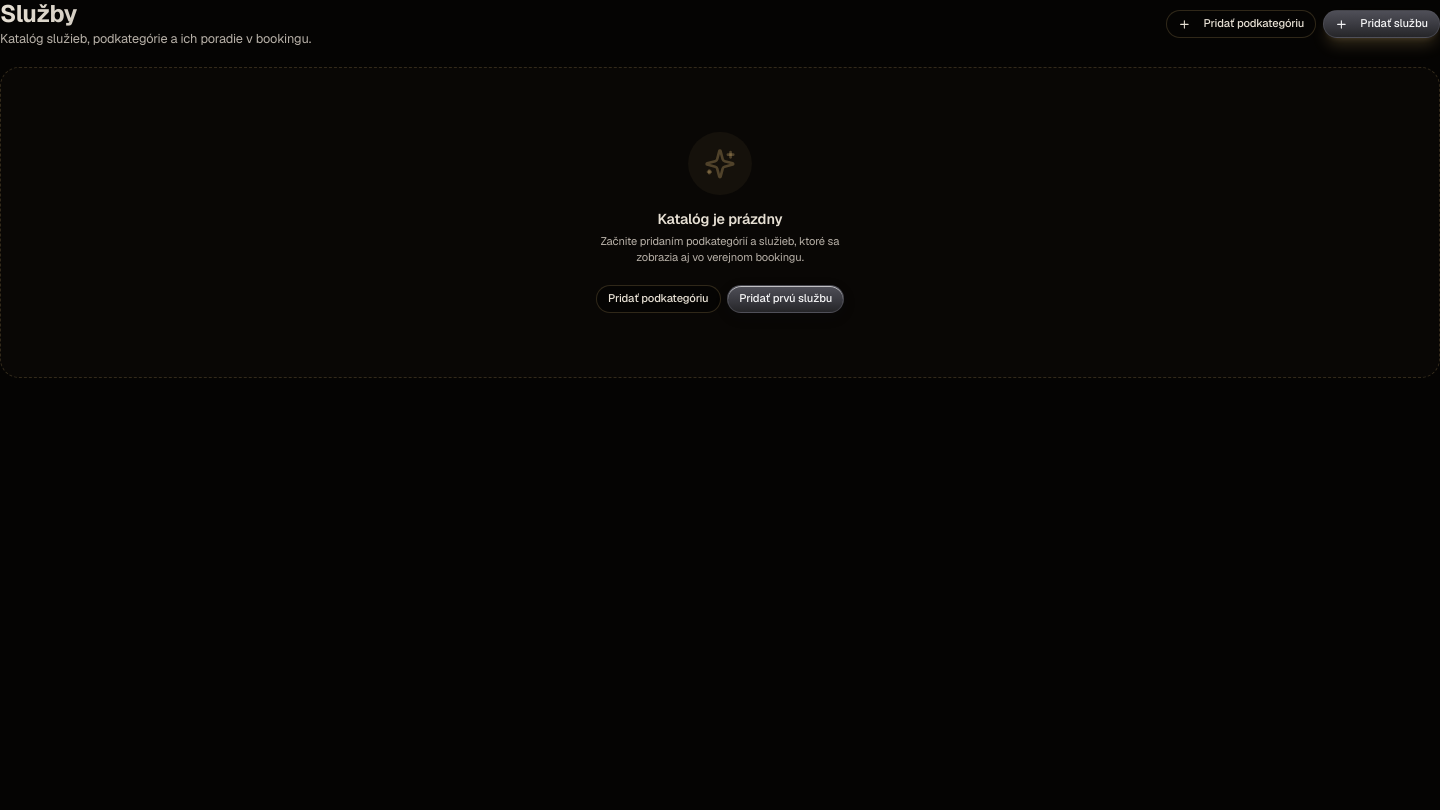
Test: ServicesPage › opens create dialog from empty state CTA
Expected: the heading "Katalóg je prázdny" is shown, [657, 210, 782, 228]
Click the button "Pridať prvú službu" at (786,299), box [727, 285, 844, 313]
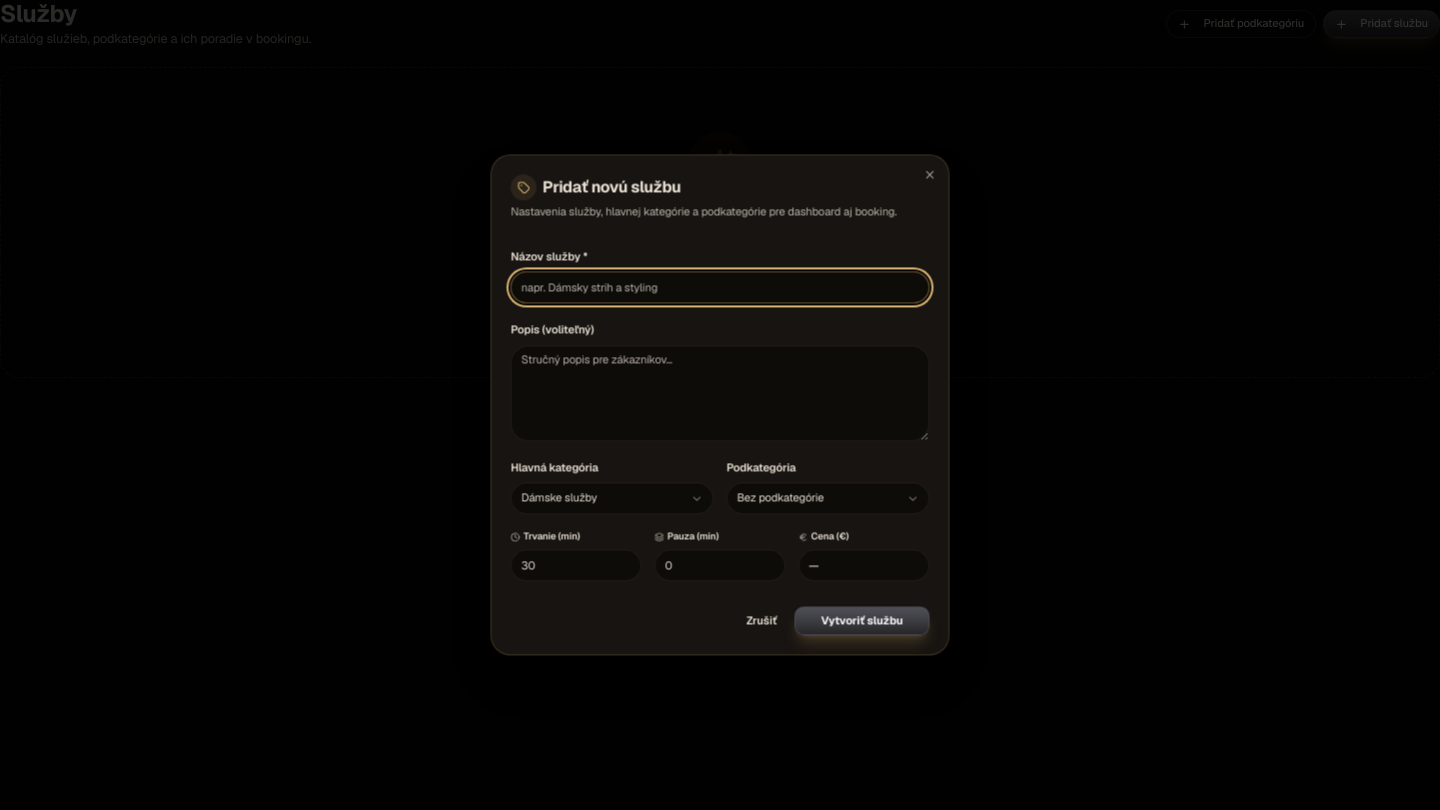
Result: the heading "Pridať novú službu" is shown at [511, 174, 681, 200]
